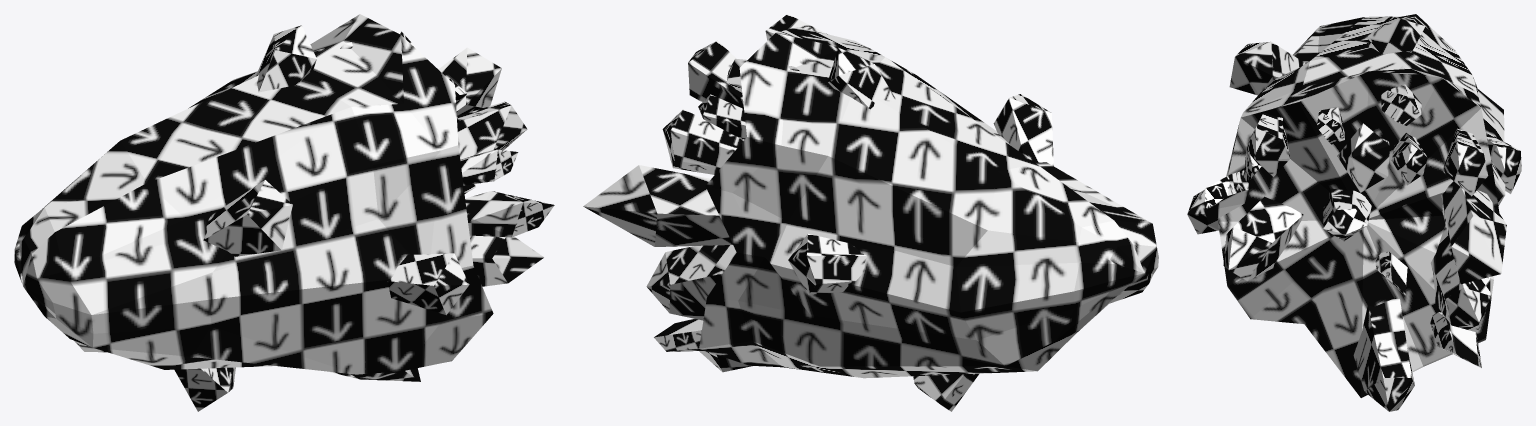
Rendered from killer.fbx.
3 renders of one model, left to right at view 1: azimuth 30°, elevation 25°; view 2: azimuth 150°, elevation 25°; view 3: azimuth 270°, elevation 25°, orthographic. The views are drawn at different scales.
Parts seen in each view (by area): view 1: _05_killer_obj7; view 2: _05_killer_obj7; view 3: _05_killer_obj7.
Boxes of the visible parts, x1,y1,x2,y2 form: _05_killer_obj7: (14,14,554,411); _05_killer_obj7: (583,14,1158,411); _05_killer_obj7: (1187,14,1521,411).
Bounding box in the file's own units: 6.59 × 4.55 × 4.09.
1 material, 1 textured.
